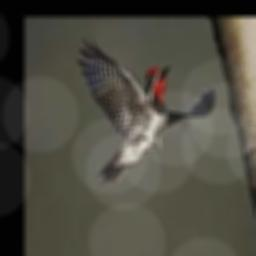Woodpecker: (77, 35, 214, 185)
